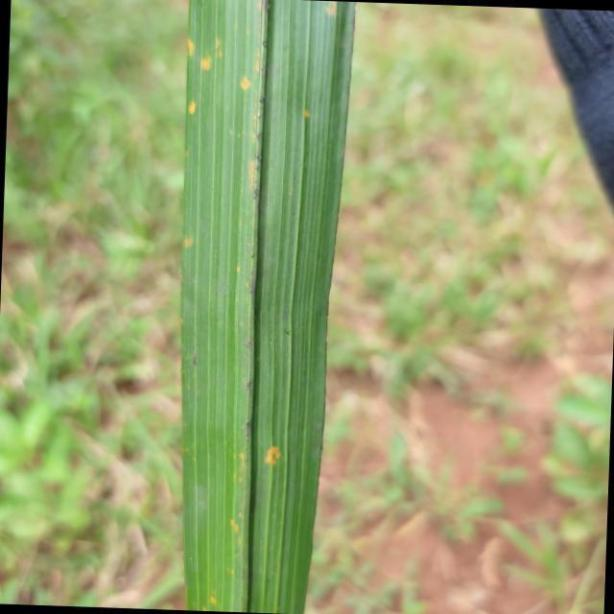Kalium: (179, 0, 355, 614)
